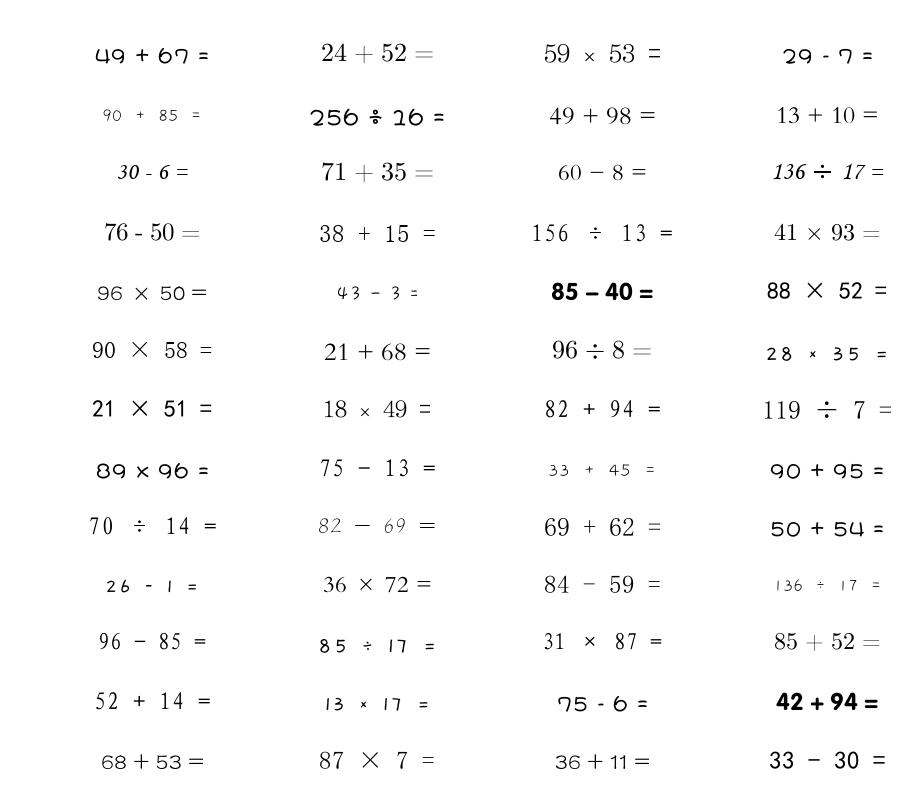MQ: (531, 224, 673, 242), (762, 400, 892, 419), (309, 108, 445, 126), (321, 43, 434, 64), (321, 162, 434, 183), (544, 43, 661, 63), (88, 517, 217, 535), (769, 751, 886, 770), (542, 632, 662, 650), (544, 400, 661, 418), (319, 459, 436, 477), (544, 518, 661, 536), (544, 575, 661, 593), (94, 692, 211, 710), (319, 751, 435, 769), (767, 282, 887, 299), (92, 341, 212, 358), (92, 400, 212, 417), (774, 632, 881, 651), (319, 225, 436, 242), (323, 400, 431, 418), (98, 632, 206, 650), (95, 47, 209, 64), (551, 282, 653, 301), (776, 692, 878, 711), (549, 107, 656, 125), (774, 223, 881, 241), (324, 343, 431, 361), (771, 163, 884, 180), (96, 462, 209, 479), (552, 340, 652, 359), (765, 346, 889, 361), (323, 576, 432, 593), (770, 463, 884, 479), (770, 521, 884, 537), (317, 638, 437, 653), (318, 518, 436, 533), (776, 107, 879, 124), (101, 753, 204, 770), (104, 223, 200, 241), (555, 753, 650, 770), (557, 695, 648, 712), (97, 286, 207, 300), (558, 164, 647, 181), (324, 697, 430, 711), (782, 48, 873, 64), (548, 464, 657, 477), (773, 579, 882, 592), (105, 579, 199, 593), (102, 109, 202, 122), (336, 286, 419, 301), (116, 165, 188, 179)
